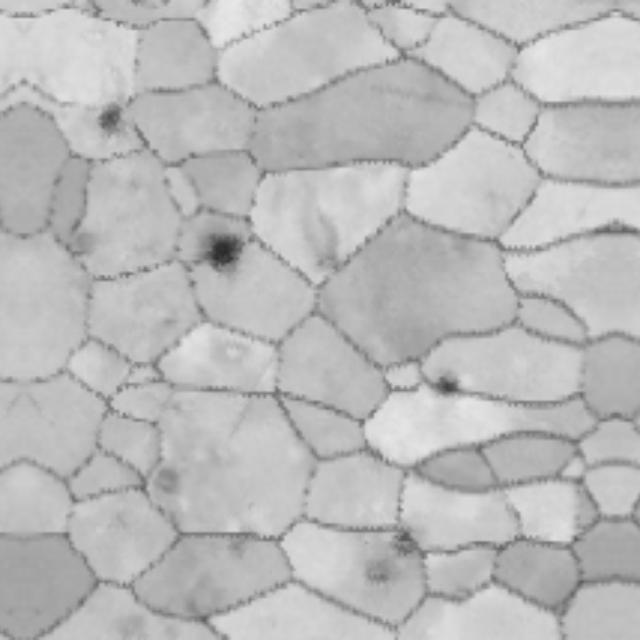good_void: (295, 202, 347, 272), (196, 227, 250, 282), (47, 219, 104, 260), (90, 94, 134, 140), (384, 522, 426, 560), (149, 460, 185, 502), (364, 552, 402, 589), (429, 370, 464, 402)
